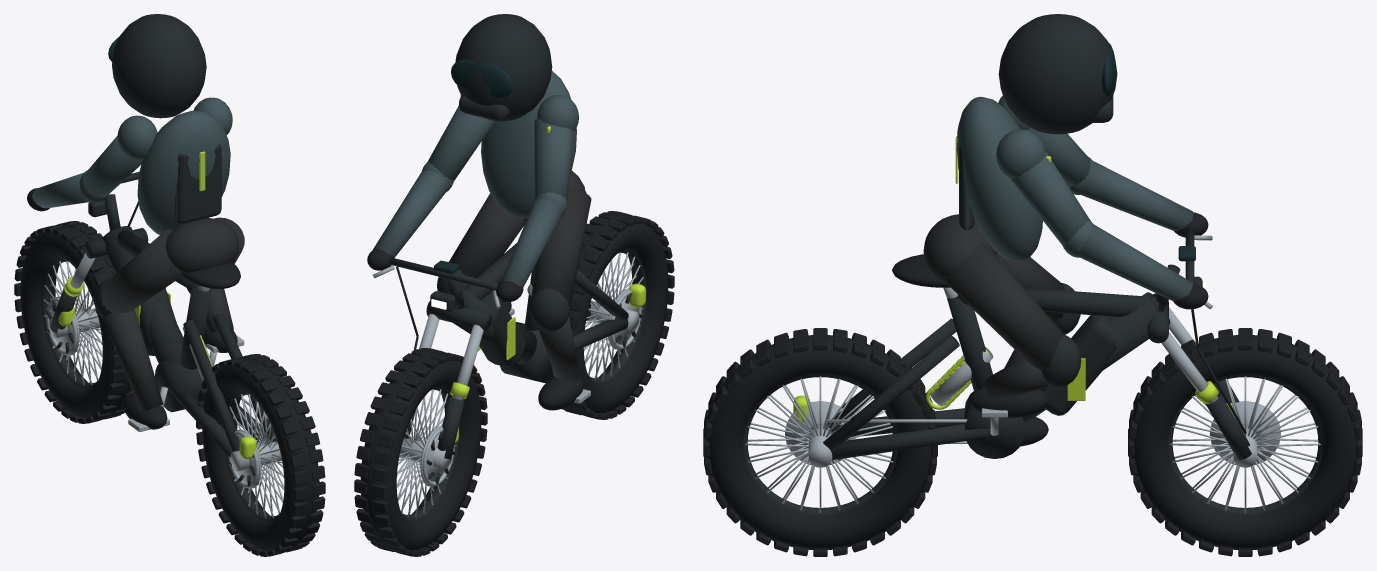
Rendered from ebike-performance.glb.
3 renders of one model, left to right at view 1: azimuth 30°, elevation 25°; view 2: azimuth 150°, elevation 25°; view 3: azimuth 270°, elevation 25°, orthographic. The views are drawn at different scales.
Parts seen in each view (by area): view 1: BIKE_VR2 Tyre rubber, BIKE_VR2 Graphite ceramic, RIDER_VR2 Technical riding jacket, RIDER_VR2 Graphite ceramic, RIDER_VR2 Cordura riding pants, BIKE_VR2 Brushed titanium, RIDER_VR2 Tyre rubber, BIKE_VR2 Electric lime anodised; view 2: BIKE_VR2 Tyre rubber, RIDER_VR2 Technical riding jacket, BIKE_VR2 Graphite ceramic, RIDER_VR2 Graphite ceramic, RIDER_VR2 Cordura riding pants, BIKE_VR2 Brushed titanium, RIDER_VR2 Tyre rubber, RIDER_VR2 Smoke visor, BIKE_VR2 Electric lime anodised; view 3: BIKE_VR2 Tyre rubber, BIKE_VR2 Graphite ceramic, RIDER_VR2 Technical riding jacket, BIKE_VR2 Brushed titanium, RIDER_VR2 Graphite ceramic, RIDER_VR2 Cordura riding pants, RIDER_VR2 Tyre rubber, BIKE_VR2 Electric lime anodised.
Boxes of the visible parts, x1,y1,x2,y2 form: BIKE_VR2 Tyre rubber: (14,201,325,556); BIKE_VR2 Graphite ceramic: (41,172,279,521); RIDER_VR2 Technical riding jacket: (32,97,232,234); RIDER_VR2 Graphite ceramic: (94,14,221,318); RIDER_VR2 Cordura riding pants: (101,217,244,411); BIKE_VR2 Brushed titanium: (43,253,284,518); RIDER_VR2 Tyre rubber: (27,188,237,429); BIKE_VR2 Electric lime anodised: (58,276,256,459); BIKE_VR2 Tyre rubber: (354,191,674,556); RIDER_VR2 Technical riding jacket: (373,70,578,287); BIKE_VR2 Graphite ceramic: (389,243,646,520); RIDER_VR2 Graphite ceramic: (437,14,569,331); RIDER_VR2 Cordura riding pants: (449,171,591,381); BIKE_VR2 Brushed titanium: (373,252,643,517); RIDER_VR2 Tyre rubber: (367,249,583,410); RIDER_VR2 Smoke visor: (451,59,513,98); BIKE_VR2 Electric lime anodised: (442,283,645,442); BIKE_VR2 Tyre rubber: (703,224,1362,556); BIKE_VR2 Graphite ceramic: (743,227,1322,515); RIDER_VR2 Technical riding jacket: (956,95,1193,301); BIKE_VR2 Brushed titanium: (745,235,1320,512); RIDER_VR2 Graphite ceramic: (959,14,1117,387); RIDER_VR2 Cordura riding pants: (923,214,1064,397); RIDER_VR2 Tyre rubber: (969,212,1208,446); BIKE_VR2 Electric lime anodised: (793,350,1232,421).
Size of the model in its own units: 0.75 by 2.22 by 2.5.
